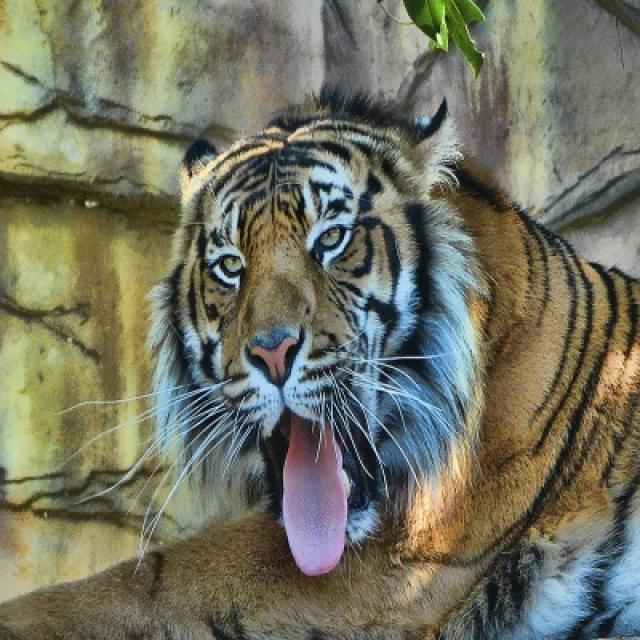Tiger: (0, 92, 638, 638)
